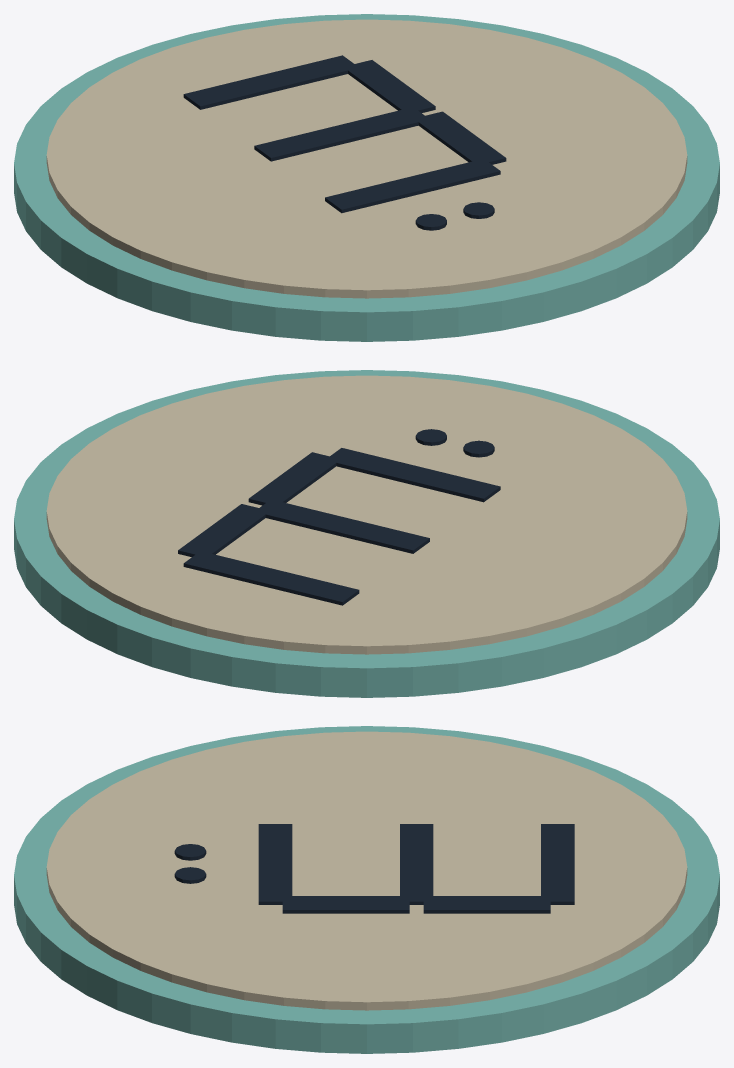
File: space_number_3.glb
3 renders of one model, top to bottom at view 1: azimuth 30°, elevation 25°; view 2: azimuth 150°, elevation 25°; view 3: azimuth 270°, elevation 25°, orthographic.
Visible parts, largest first — view 1: FixedDetails; view 2: FixedDetails; view 3: FixedDetails.
Boxes of the visible parts, x1,y1,x2,y2 form: FixedDetails: (14, 14, 719, 341); FixedDetails: (14, 370, 719, 697); FixedDetails: (14, 726, 719, 1053).
Size of the model in its own units: 0.54 by 0.036 by 0.54.
